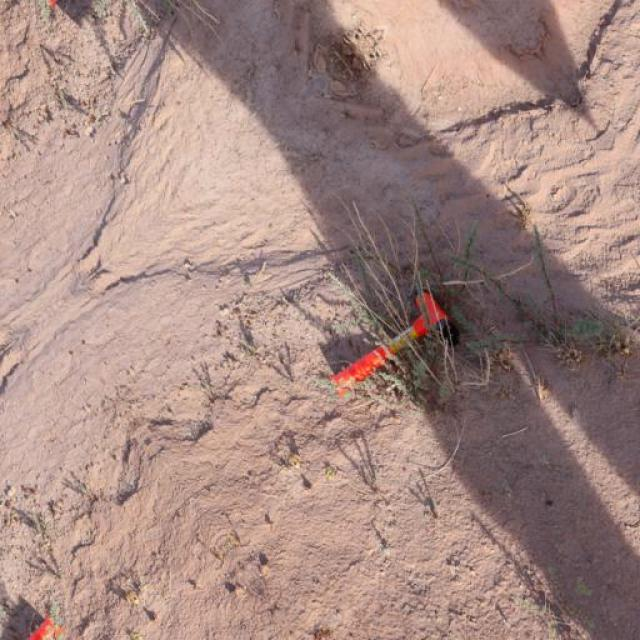mallet: (329, 288, 460, 398)
